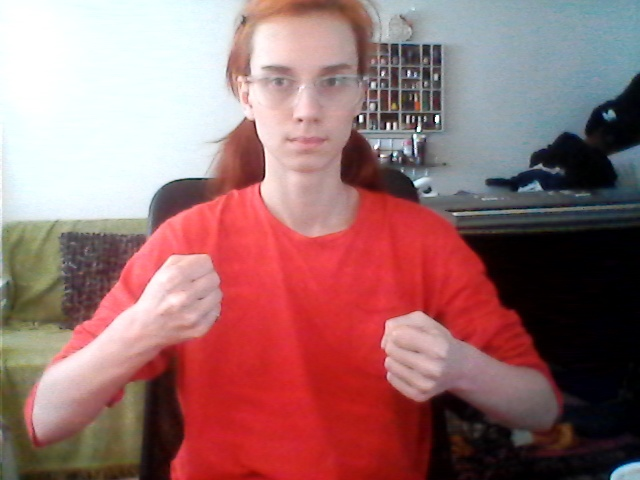auto: (146, 247, 460, 423)
